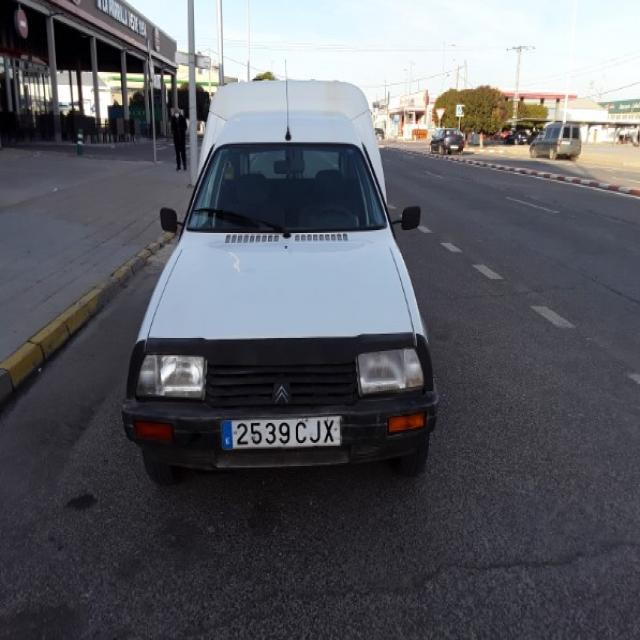football: (222, 415, 342, 446)
